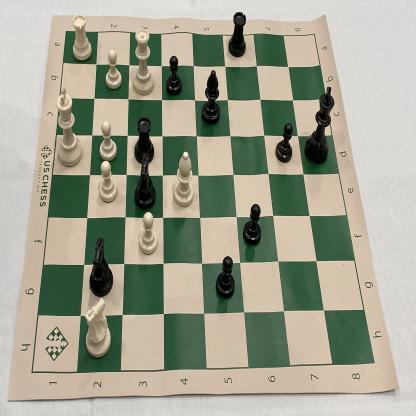black-bishop: (199, 66, 224, 131)
black-king: (301, 79, 338, 168)
black-knight: (88, 233, 116, 300), (130, 150, 159, 213)
black-pawn: (241, 198, 265, 249), (214, 253, 238, 302), (162, 52, 184, 98), (274, 120, 295, 164)
black-rook: (133, 114, 159, 171), (227, 10, 249, 63)
white-bishop: (169, 146, 196, 211)
white-king: (52, 79, 85, 172)
white-knight: (80, 295, 118, 362)
white-pawn: (134, 206, 161, 257), (95, 158, 121, 205), (94, 118, 118, 163), (103, 49, 125, 94)
white-queen: (132, 23, 157, 100)
white-rook: (68, 10, 94, 64)
